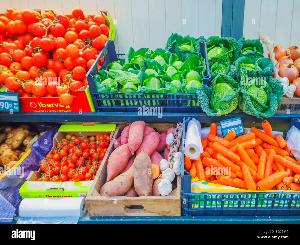carrot: (192, 125, 300, 197), (251, 127, 280, 148), (258, 171, 288, 191), (237, 144, 258, 172), (213, 142, 240, 162), (217, 154, 243, 173), (275, 155, 300, 174), (263, 143, 290, 158), (230, 133, 256, 148), (243, 165, 257, 191), (265, 149, 277, 179), (207, 134, 231, 148), (220, 176, 242, 189), (195, 156, 206, 182), (258, 150, 267, 181), (202, 158, 226, 168), (262, 121, 275, 139), (240, 139, 257, 150), (275, 134, 286, 149), (234, 179, 248, 190), (189, 162, 197, 179), (247, 166, 258, 178), (224, 132, 236, 142), (288, 183, 300, 192), (245, 149, 255, 159), (235, 161, 246, 170), (276, 183, 288, 191), (284, 177, 294, 186), (201, 152, 213, 159), (211, 123, 217, 136), (251, 157, 260, 165), (286, 168, 294, 177), (204, 148, 214, 155), (237, 172, 245, 180), (202, 140, 208, 150), (294, 174, 300, 184), (230, 146, 237, 153), (231, 171, 237, 179), (273, 163, 278, 172), (227, 168, 231, 174)
garlic: (148, 122, 200, 197), (158, 179, 172, 196), (162, 169, 175, 183), (172, 162, 181, 176), (160, 159, 169, 172), (166, 133, 174, 146), (174, 152, 182, 163)
onion: (274, 44, 300, 92), (279, 63, 300, 82), (274, 43, 287, 61), (289, 45, 300, 61), (278, 54, 294, 64), (293, 77, 300, 97), (294, 58, 300, 73)
tomato: (0, 6, 110, 96), (33, 129, 117, 187), (6, 20, 27, 36), (21, 9, 42, 23), (21, 9, 38, 23), (32, 52, 47, 67), (5, 77, 21, 91), (55, 13, 69, 28), (50, 23, 65, 37), (65, 44, 79, 59), (39, 37, 54, 51), (32, 22, 46, 37), (32, 83, 46, 98), (46, 81, 60, 96), (52, 59, 66, 73), (73, 66, 87, 80), (12, 49, 27, 62), (0, 70, 15, 83), (3, 43, 19, 55), (91, 36, 105, 49), (82, 48, 96, 61), (14, 20, 27, 34), (21, 56, 34, 70), (0, 52, 13, 66), (9, 62, 23, 75), (59, 93, 73, 106), (53, 48, 68, 60), (69, 81, 84, 93), (29, 66, 42, 79), (64, 30, 78, 42), (56, 84, 70, 96), (24, 40, 34, 56), (89, 24, 101, 37), (54, 37, 67, 49), (78, 29, 92, 40), (64, 57, 75, 71), (23, 80, 34, 94), (72, 7, 84, 19), (30, 36, 42, 48), (21, 33, 33, 45), (73, 57, 87, 67), (15, 71, 30, 80), (93, 14, 105, 25), (75, 20, 87, 31), (58, 69, 69, 81), (63, 72, 74, 84), (73, 39, 86, 49), (11, 10, 22, 21), (5, 7, 16, 18), (13, 40, 25, 50), (27, 22, 36, 35), (39, 159, 48, 172), (99, 24, 109, 35), (14, 87, 25, 97), (40, 18, 52, 27), (42, 71, 57, 78), (87, 21, 98, 30), (42, 12, 54, 20), (84, 47, 97, 54), (39, 50, 49, 59), (67, 169, 76, 179), (1, 31, 13, 38), (78, 167, 87, 176), (87, 59, 95, 69), (70, 154, 78, 164), (76, 158, 84, 168), (100, 34, 108, 43), (69, 18, 77, 27), (70, 27, 79, 35), (0, 65, 8, 74), (88, 167, 96, 176), (72, 174, 81, 182), (61, 166, 69, 175), (52, 166, 60, 175), (59, 150, 67, 158), (92, 152, 99, 161), (39, 165, 48, 172), (95, 135, 105, 141), (80, 142, 87, 150), (74, 149, 82, 156), (62, 145, 69, 153), (85, 157, 92, 165), (59, 161, 67, 168), (60, 175, 68, 182), (84, 15, 93, 21), (47, 34, 56, 40), (82, 77, 88, 86), (67, 163, 76, 169), (51, 176, 60, 182), (40, 176, 49, 182), (20, 93, 30, 98), (45, 93, 55, 98), (98, 141, 105, 148), (89, 149, 96, 156), (74, 138, 81, 145), (68, 142, 75, 149), (61, 139, 68, 146), (85, 164, 92, 171), (84, 174, 91, 181), (48, 159, 55, 166), (53, 154, 60, 161), (45, 171, 53, 177), (51, 161, 59, 167), (44, 166, 52, 172), (83, 151, 89, 159), (96, 147, 103, 153), (99, 153, 105, 160), (89, 143, 96, 149), (89, 136, 96, 142), (68, 148, 75, 154), (52, 148, 58, 155), (79, 174, 84, 182), (45, 154, 53, 159), (92, 160, 98, 166), (82, 138, 89, 143), (6, 39, 14, 43), (105, 136, 110, 142), (102, 148, 107, 154), (61, 157, 67, 162), (66, 135, 71, 140), (66, 159, 71, 164), (68, 153, 73, 158), (2, 41, 8, 45), (105, 142, 109, 148), (57, 143, 61, 149), (84, 148, 90, 152), (71, 136, 76, 140), (95, 54, 98, 59), (48, 28, 50, 32)
